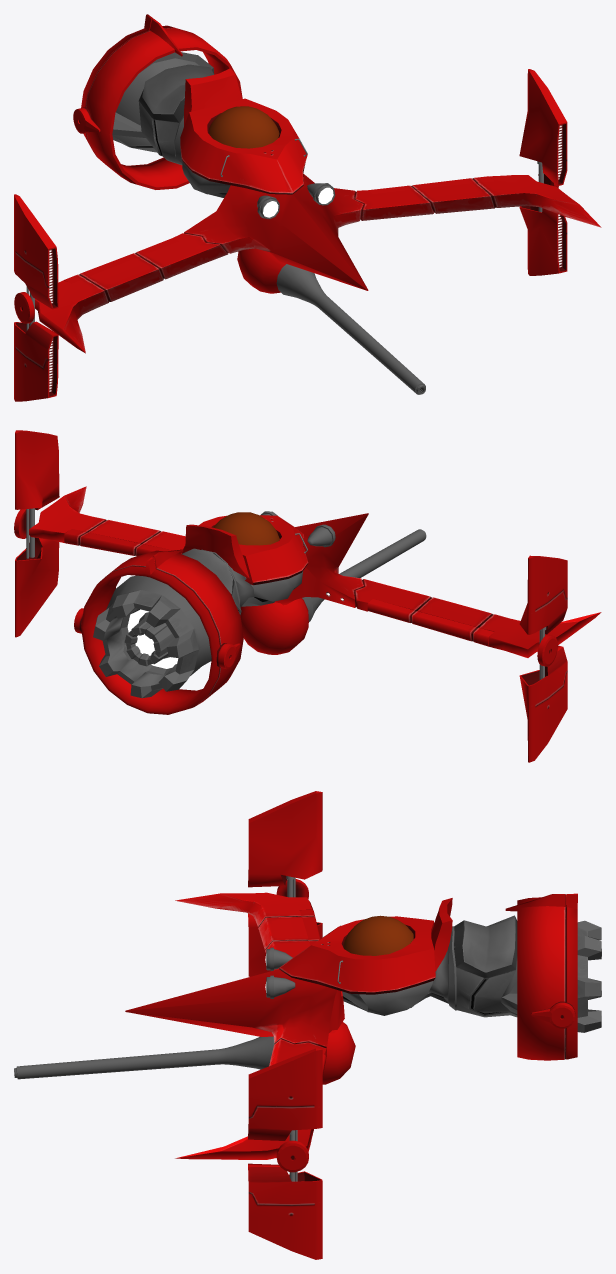
3 renders of one model, top to bottom at view 1: azimuth 30°, elevation 25°; view 2: azimuth 150°, elevation 25°; view 3: azimuth 270°, elevation 25°, orthographic. The views are drawn at different scales.
Parts seen in each view (by area): view 1: Object_3, Object_6, Object_4, Object_2; view 2: Object_3, Object_6, Object_4, Object_2, Object_7; view 3: Object_3, Object_6, Object_4, Object_2.
Boxes of the visible parts, left/top/right/bottom form: Object_3: left=14, top=14, right=601, bottom=401; Object_6: left=112, top=52, right=230, bottom=197; Object_4: left=257, top=183, right=425, bottom=394; Object_2: left=209, top=106, right=279, bottom=148; Object_3: left=14, top=430, right=601, bottom=762; Object_6: left=93, top=548, right=302, bottom=698; Object_4: left=260, top=511, right=426, bottom=621; Object_2: left=213, top=512, right=279, bottom=545; Object_7: left=26, top=508, right=546, bottom=679; Object_3: left=125, top=791, right=577, bottom=1259; Object_6: left=342, top=915, right=601, bottom=1032; Object_4: left=14, top=947, right=295, bottom=1079; Object_2: left=343, top=915, right=413, bottom=955.
Size of the model in its own units: 178 by 74.07 by 167.
6 materials, 3 textured.
